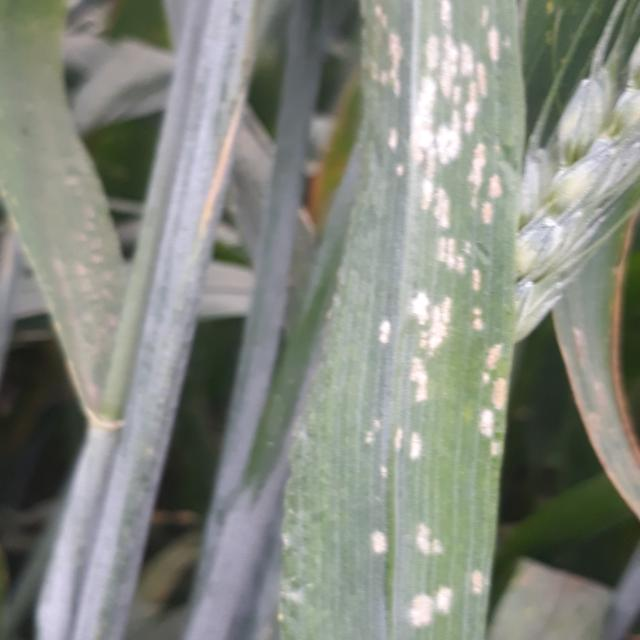powder_mildew: (269, 3, 500, 640), (465, 9, 640, 352), (155, 32, 275, 270), (558, 336, 639, 516)
